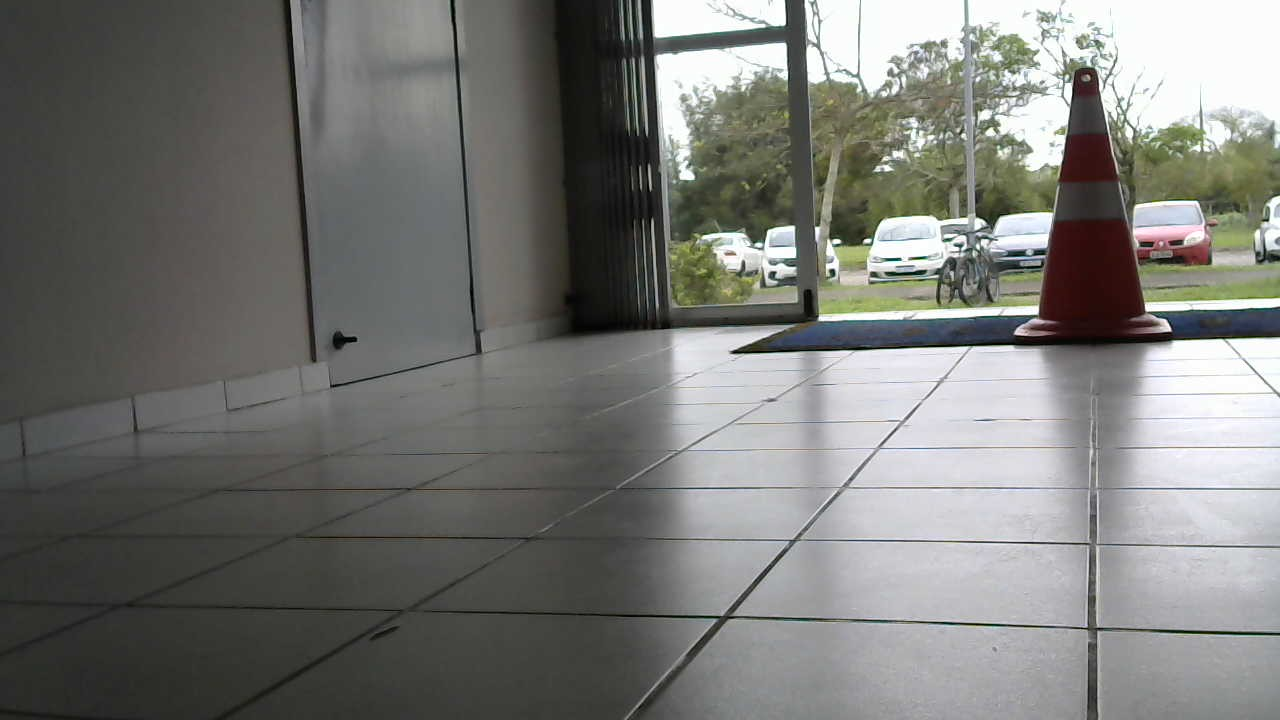cone: (1023, 66, 1174, 342)
